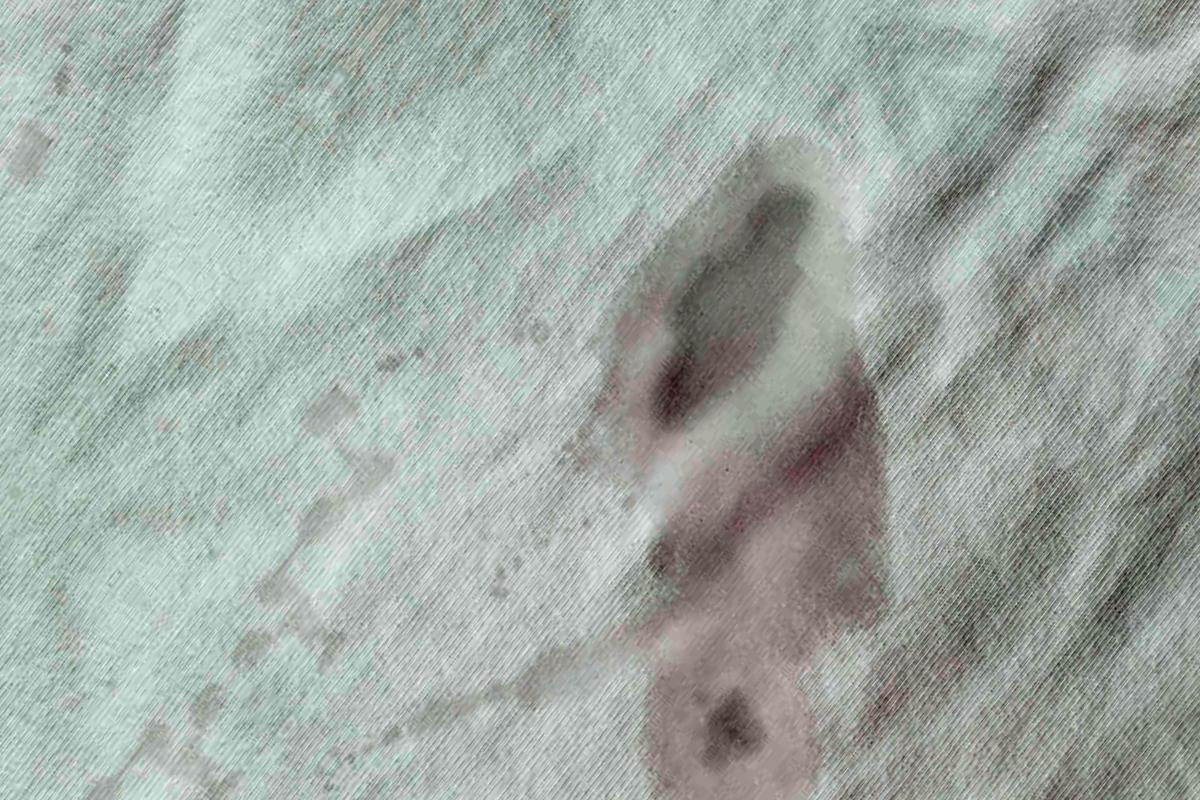stain: (576, 116, 939, 799), (8, 40, 89, 186)
